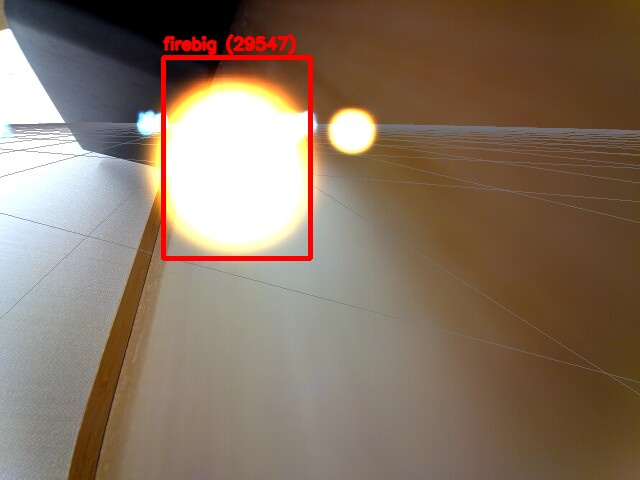firebig: (163, 57, 310, 258)
